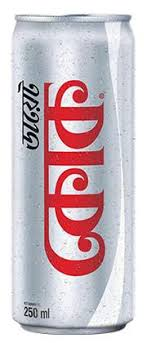can: (6, 9, 138, 337)
